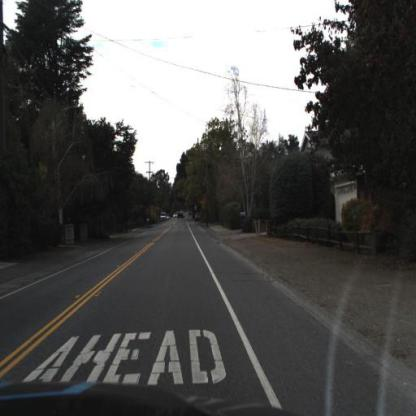car: (196, 214, 202, 224), (165, 216, 171, 221), (174, 214, 178, 219)
truck: (161, 213, 168, 223), (178, 212, 186, 220)
